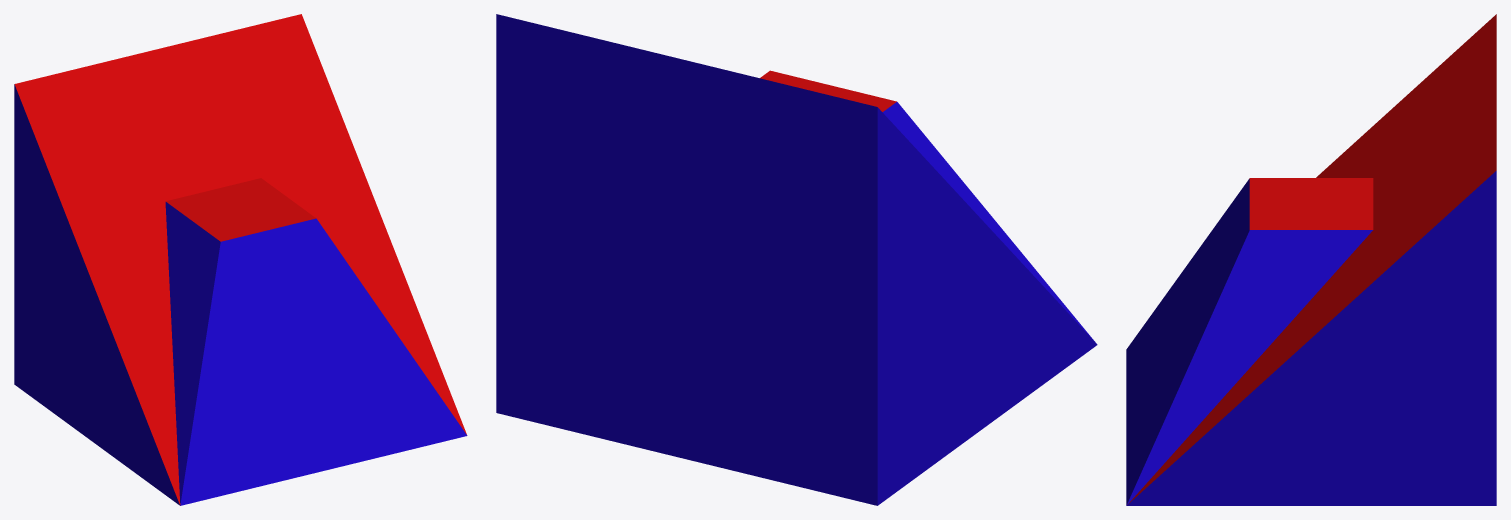
File: ClonesShapes (2).fbx
3 views of the same model, side by side, from view 1: azimuth 30°, elevation 25°; view 2: azimuth 150°, elevation 25°; view 3: azimuth 270°, elevation 25° (orthographic). The views are drawn at different scales.
Parts seen in each view (by area): view 1: Ramp, PyramidTwoThirds, PyramidQuarter, PyramidOneThird, PyramidHalf; view 2: Ramp, PyramidTwoThirds; view 3: Ramp, PyramidTwoThirds, PyramidQuarter, PyramidOneThird, PyramidHalf.
Boxes of the visible parts, bbox=[...] form: Ramp: bbox=[14, 14, 466, 505]; PyramidTwoThirds: bbox=[165, 178, 465, 505]; PyramidQuarter: bbox=[175, 360, 467, 505]; PyramidOneThird: bbox=[173, 329, 466, 505]; PyramidHalf: bbox=[172, 282, 405, 505]; Ramp: bbox=[496, 14, 1097, 505]; PyramidTwoThirds: bbox=[760, 70, 1092, 339]; Ramp: bbox=[1127, 14, 1496, 505]; PyramidTwoThirds: bbox=[1126, 178, 1373, 503]; PyramidQuarter: bbox=[1126, 285, 1218, 505]; PyramidOneThird: bbox=[1126, 264, 1249, 505]; PyramidHalf: bbox=[1126, 285, 1273, 464].
Size of the model in its own units: 100 by 100 by 100.
